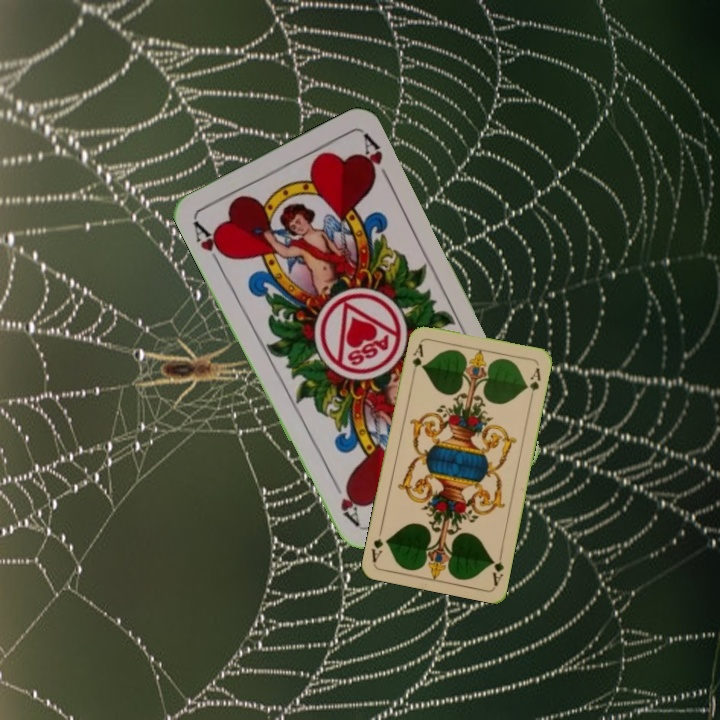GA: (488, 547, 506, 588), (408, 340, 426, 379)
HA: (188, 214, 232, 269)
